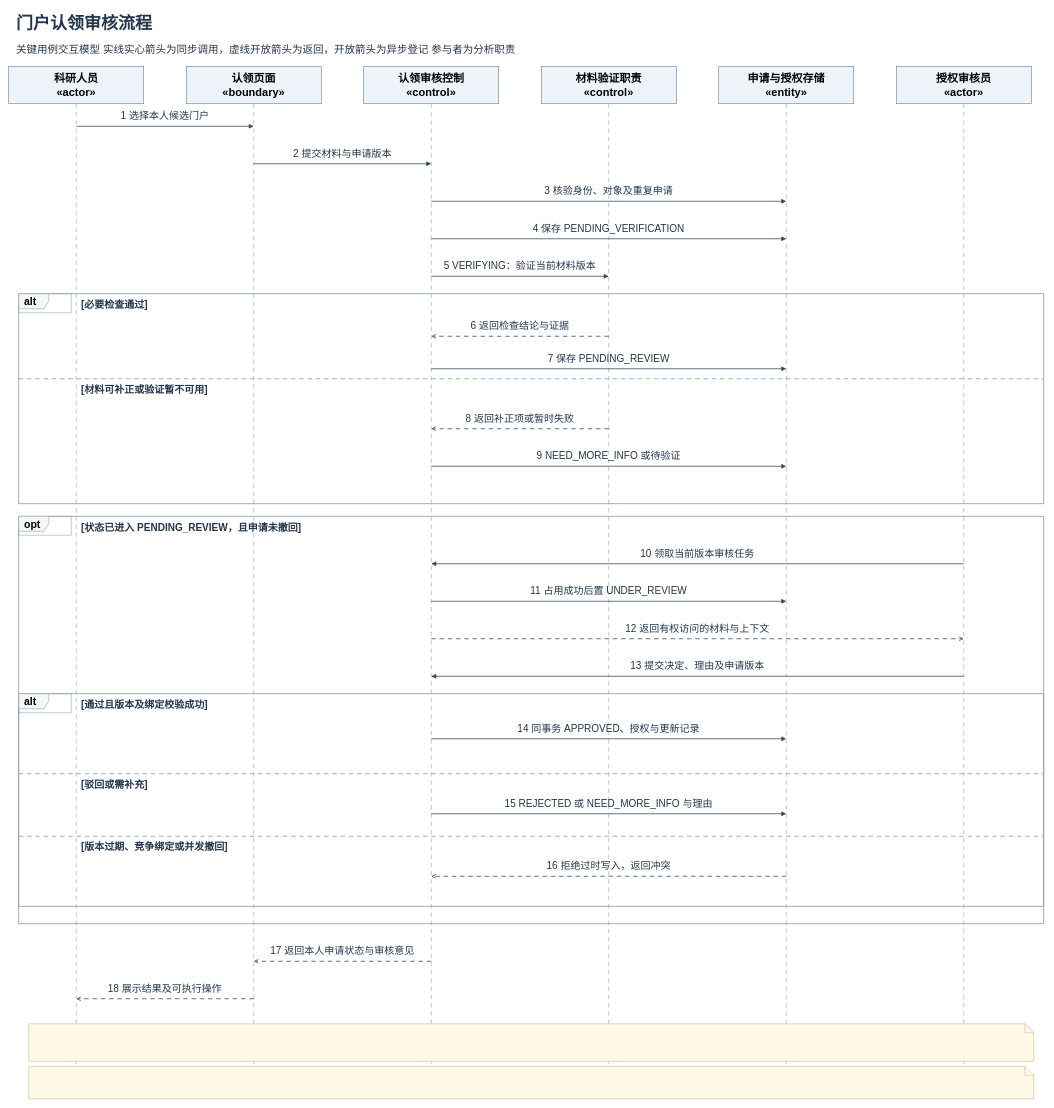
The diagram is 1054 pixels wide and 1108 high, and some of its shapes have lost their labels. The centre of each missing label's shape, as x and y in pixels:
前置条件：身份已审核。通过仅授予目标门户管理权，候选成果仍需逐项确认。已驳回或已撤回后重新申请使用新编号，旧终态历史保留。: point 531,1082
步骤 8、9 后：补充材料形成新版本再验证；临时故障保留待验证。只有步骤 7 成功才进入人工审核。终审前撤回需版本校验，审核占用超时回待审。: point 531,1042
